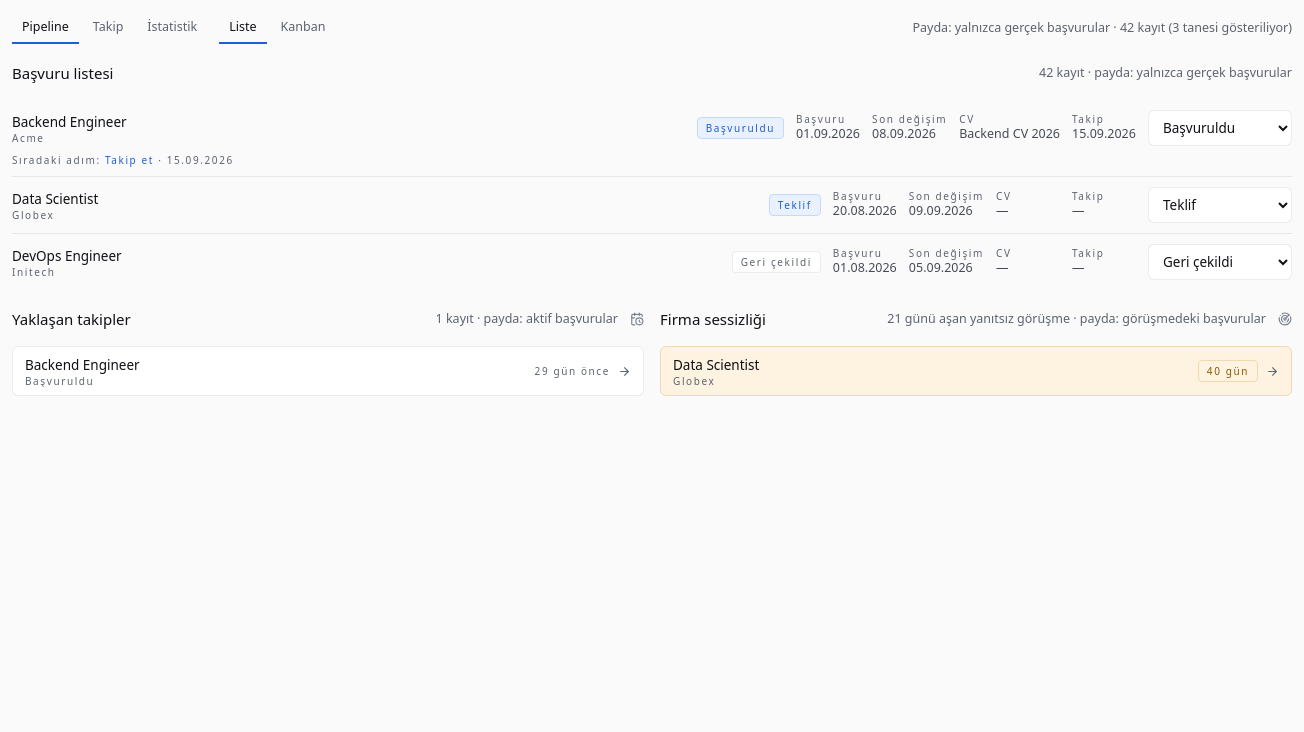
ApplicationsWorkspace örneklem dürüstlüğü › küçük kohortta yüzde yerine ham sayı ve 'küçük örneklem' notu gösterir
Click the tab "İstatistik" at (172, 28), box [137,12,207,44]
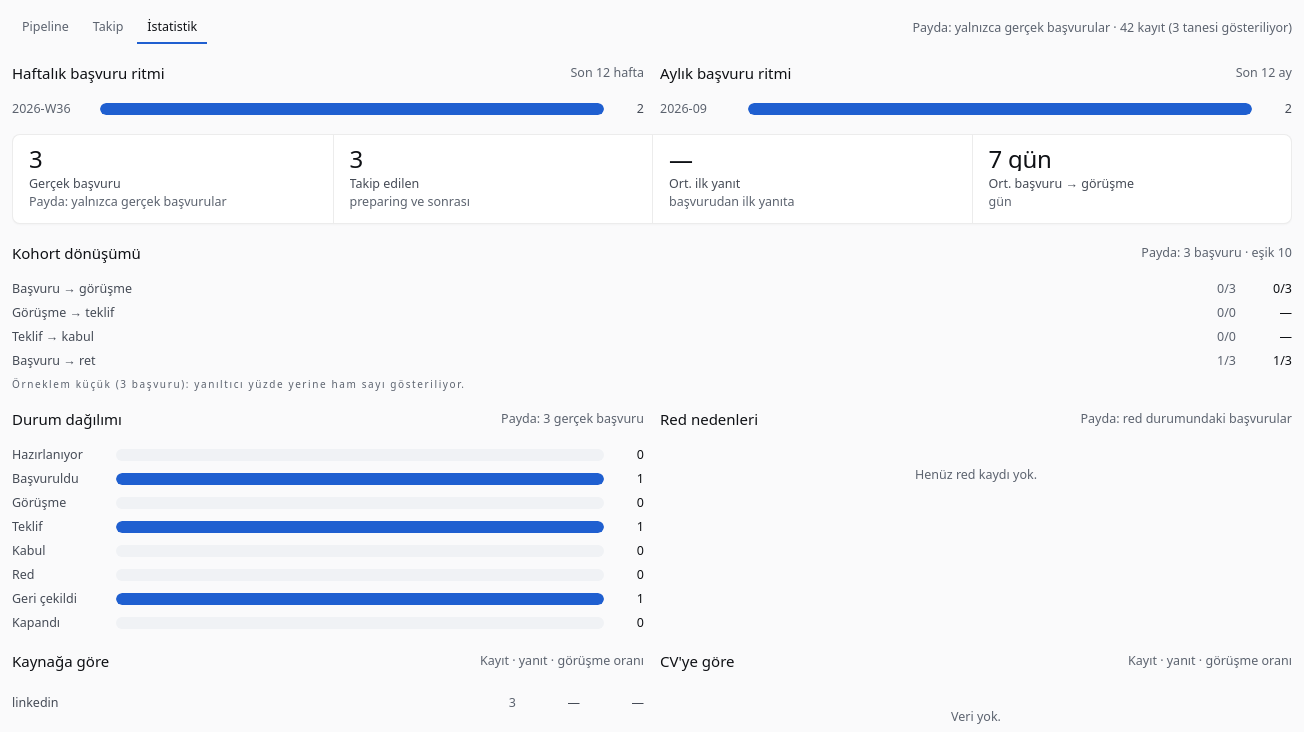
Expected: the 1st text "1/3" is shown, [1217,352,1236,370]
Expected: the text "Örneklem küçük (3 başvuru)" is shown, [12,377,466,391]
